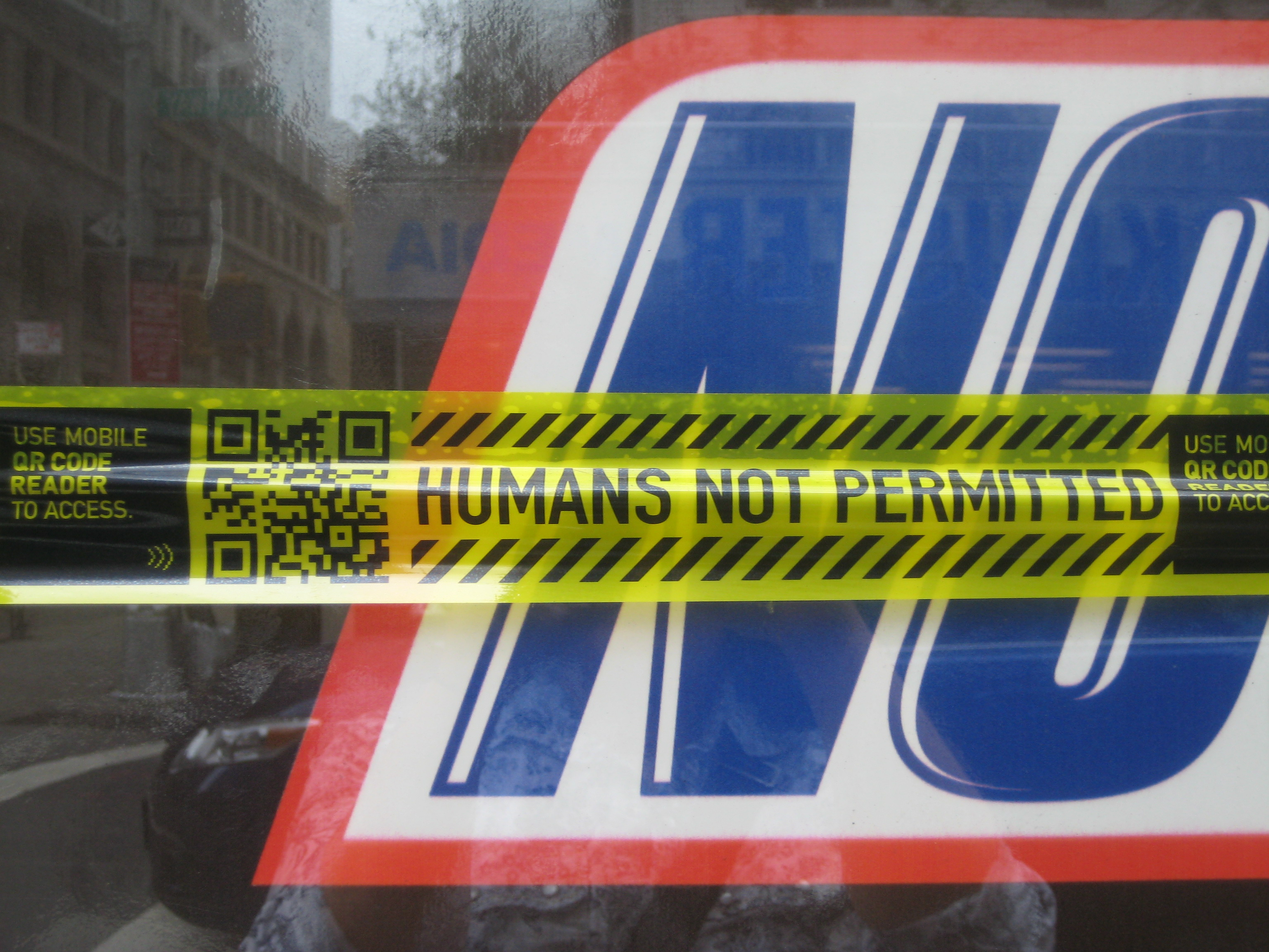QR-CODE: (205, 409, 390, 584)
